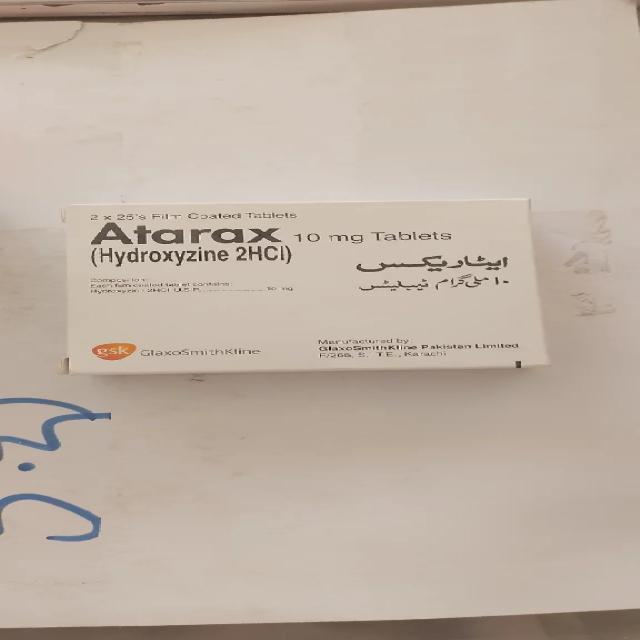drug-name: (88, 222, 292, 245)
